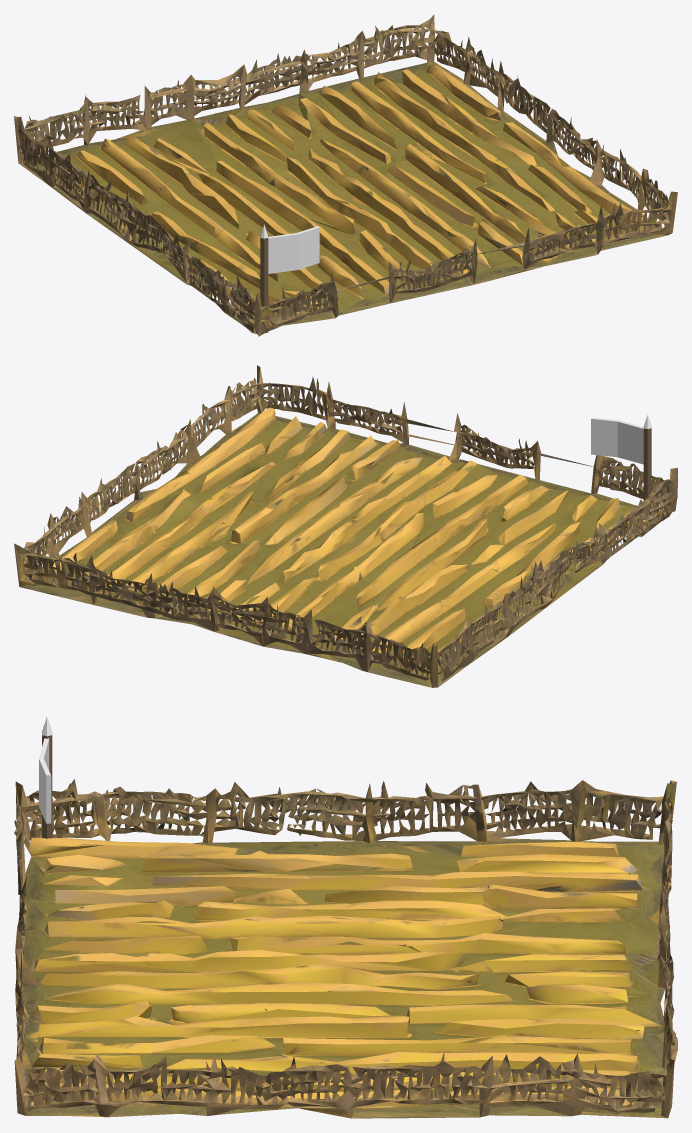
The picture shows the model from 3 angles, top to bottom: view 1: azimuth 30°, elevation 25°; view 2: azimuth 150°, elevation 25°; view 3: azimuth 270°, elevation 25°; orthographic projection. The views are drawn at different scales.
Parts seen in each view (by area): view 1: farm, Team_banner; view 2: farm, Team_banner; view 3: farm, Team_banner.
Boxes of the visible parts, bbox=[...] form: farm: bbox=[14, 14, 677, 336]; Team_banner: bbox=[260, 224, 319, 333]; farm: bbox=[14, 365, 677, 687]; Team_banner: bbox=[591, 415, 651, 515]; farm: bbox=[14, 779, 677, 1118]; Team_banner: bbox=[39, 717, 52, 838].
Size of the model in its own units: 1.89 by 0.4592 by 1.89.
3 materials, 1 textured.
